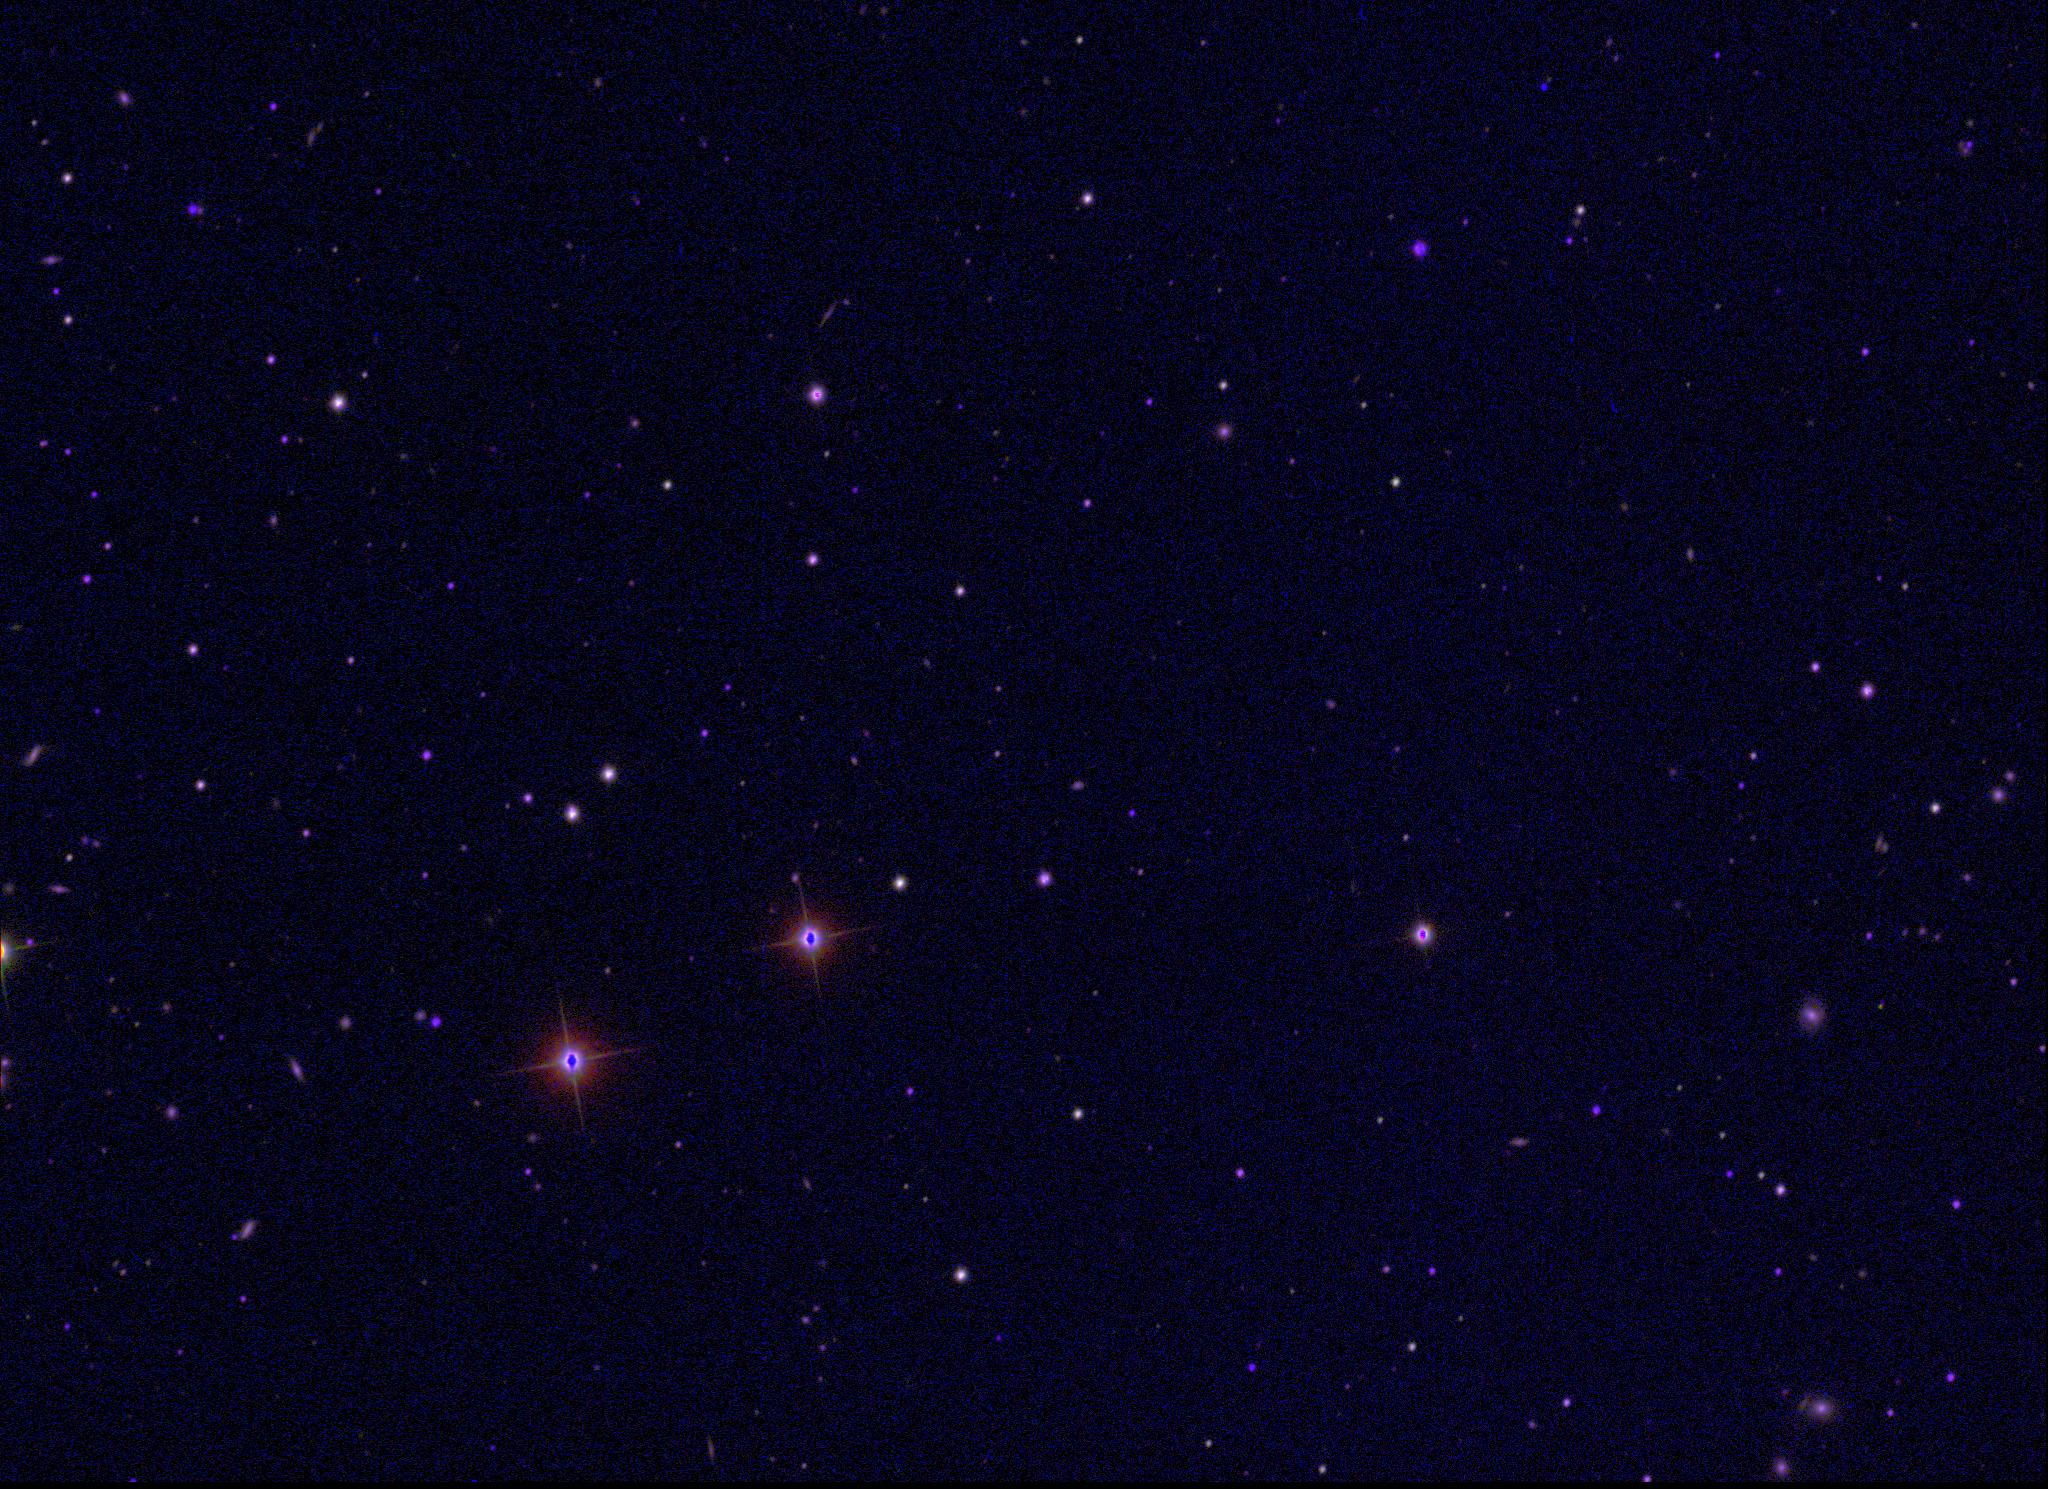L: (1538, 80, 1550, 94)
